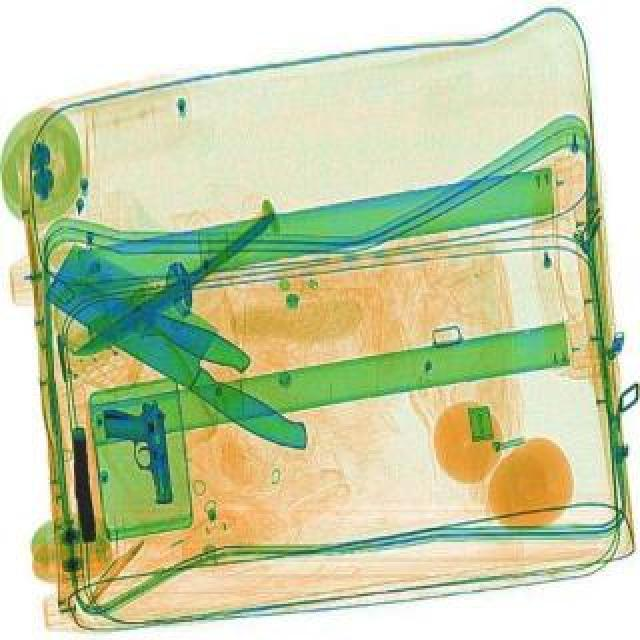gun: (100, 398, 174, 506), (66, 424, 96, 540)
knife: (30, 236, 342, 456), (68, 216, 280, 364), (38, 256, 254, 376)
